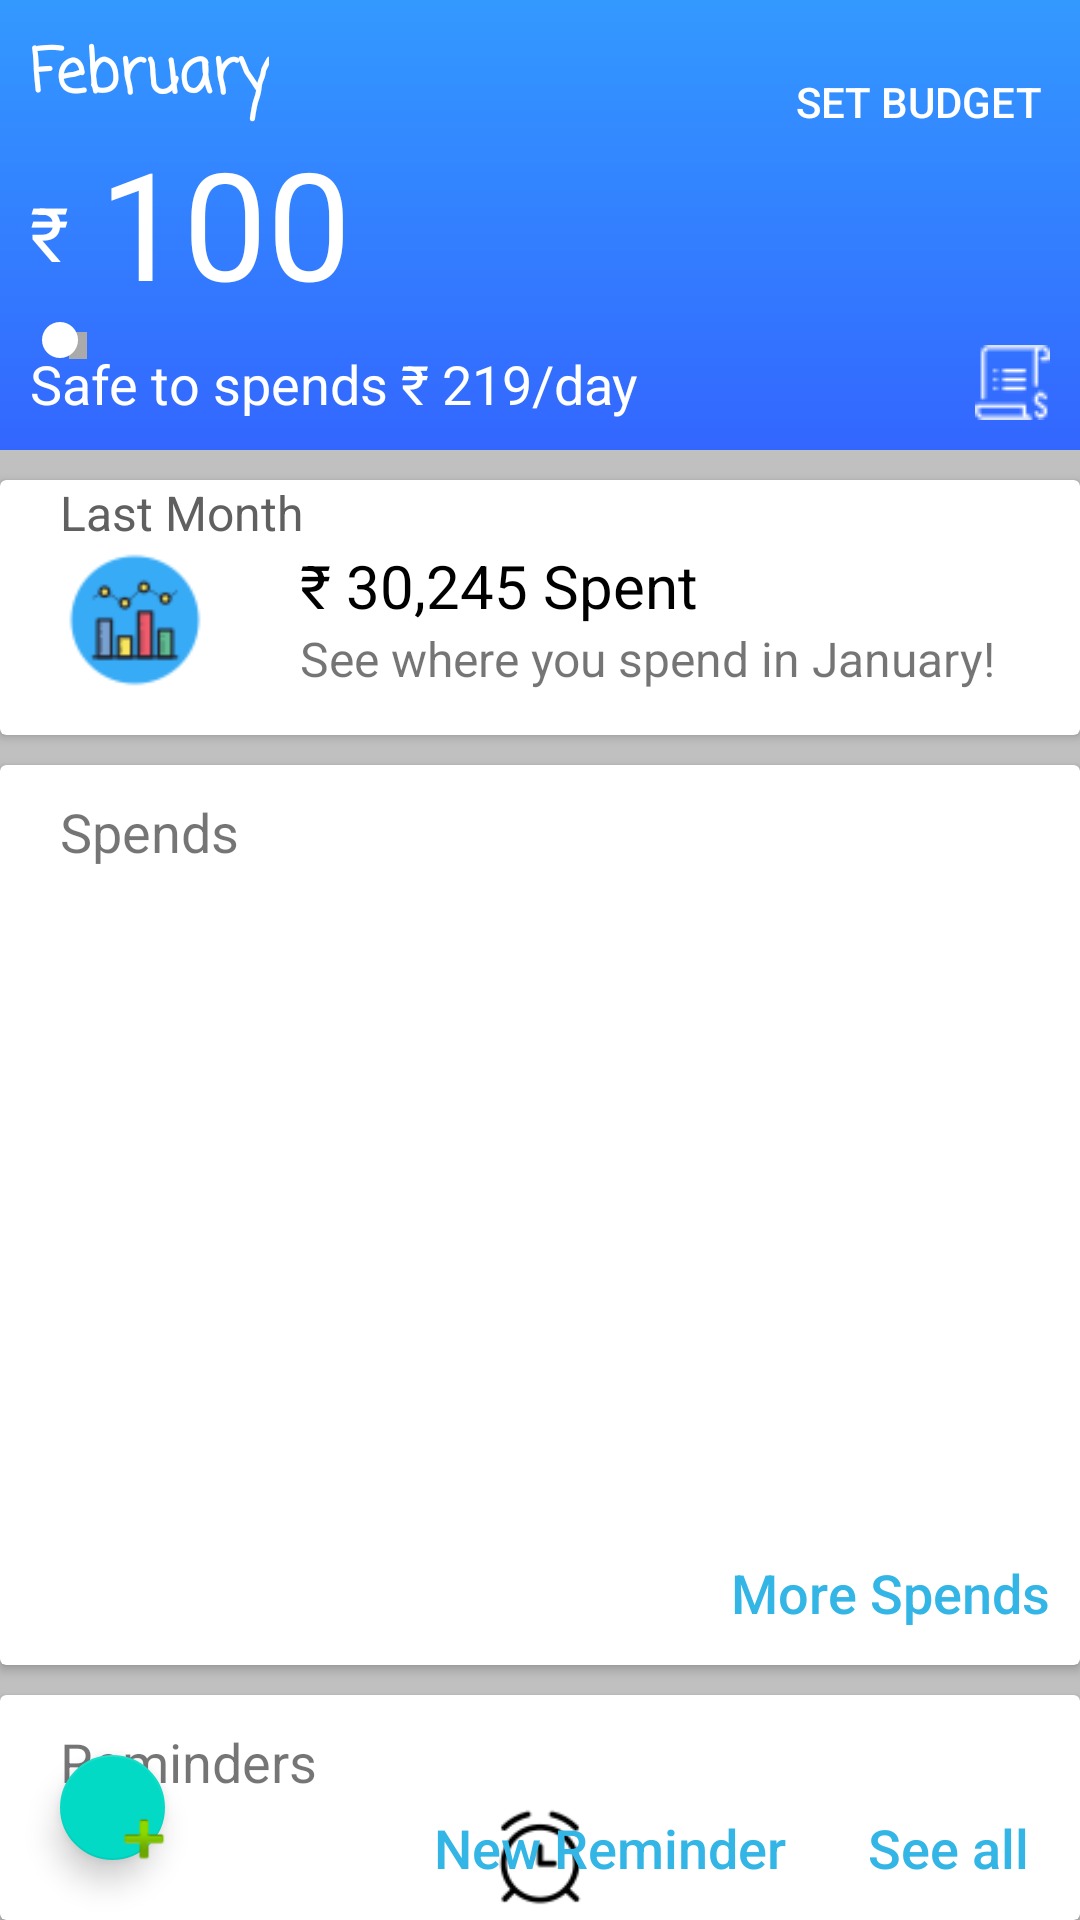

Locate icon controls on the screen. Image size 1080 x 1920, boxes as rect(x1, y1, x2, y2).
add: rect(60, 1755, 165, 1860)
clock: rect(474, 1810, 616, 1904)
expense: rect(975, 345, 1050, 420)
graphs: rect(69, 554, 201, 686)
